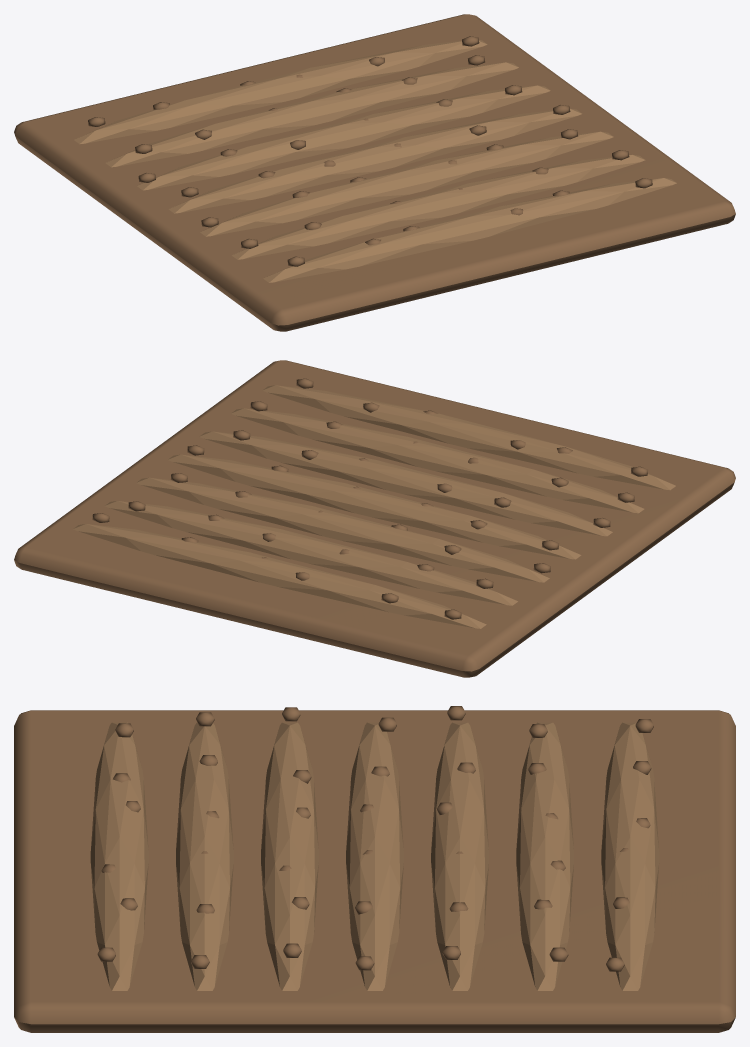
The model's file is farmland_tile.glb.
3 renders of one model, top to bottom at view 1: azimuth 30°, elevation 25°; view 2: azimuth 150°, elevation 25°; view 3: azimuth 270°, elevation 25°, orthographic. The views are drawn at different scales.
Parts seen in each view (by area): view 1: Farmland • sculpted furrows; view 2: Farmland • sculpted furrows; view 3: Farmland • sculpted furrows.
Part boxes in pixels (bbox=[...]): Farmland • sculpted furrows: bbox=[14, 14, 735, 331]; Farmland • sculpted furrows: bbox=[14, 360, 735, 677]; Farmland • sculpted furrows: bbox=[14, 706, 735, 1032].
Size of the model in its own units: 2.8 by 0.213 by 2.8.
